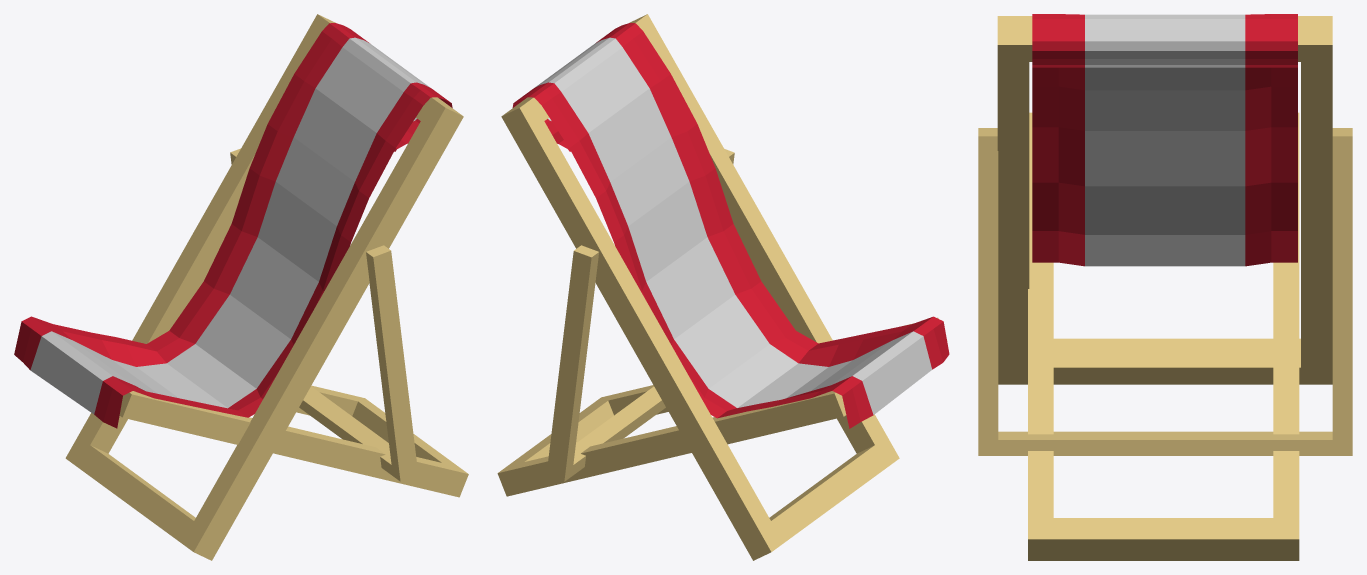
File: BeachChair_2.fbx
3 renders of one model, left to right at view 1: azimuth 30°, elevation 25°; view 2: azimuth 150°, elevation 25°; view 3: azimuth 270°, elevation 25°, orthographic. The views are drawn at different scales.
Parts seen in each view (by area): view 1: Cloth, Frame, Frame.001, Frame.002; view 2: Cloth, Frame, Frame.001, Frame.002; view 3: Cloth, Frame, Frame.001, Frame.002.
Part boxes in pixels (x1,y1,x2,y2): Cloth: (14, 23, 452, 428); Frame: (65, 14, 463, 560); Frame.001: (119, 385, 468, 497); Frame.002: (230, 148, 418, 481); Cloth: (512, 23, 949, 428); Frame: (501, 14, 899, 560); Frame.001: (497, 317, 947, 496); Frame.002: (546, 149, 734, 481); Cloth: (1032, 14, 1297, 266); Frame: (997, 16, 1332, 384); Frame.001: (1028, 112, 1299, 560); Frame.002: (978, 128, 1352, 455).
Bounding box in the file's own units: 96.01 × 105 × 66.99.
